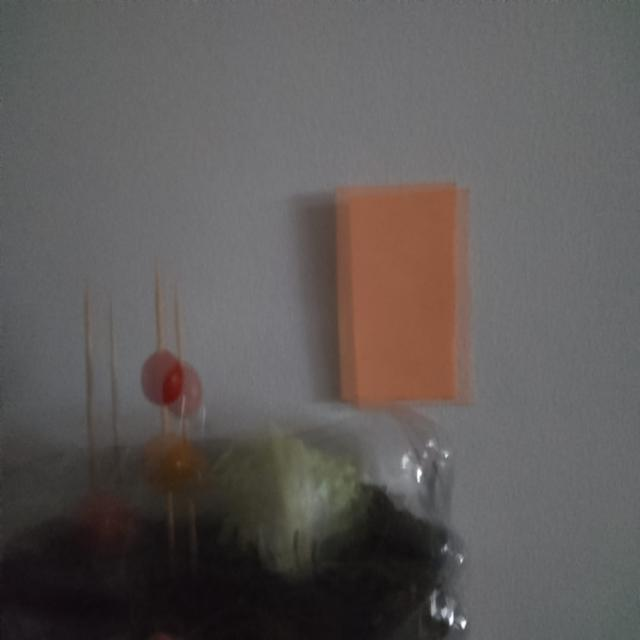card: (336, 182, 472, 405)
fruit_maturation: (142, 432, 208, 494)
fully_grown: (140, 349, 183, 405), (169, 362, 202, 418)
